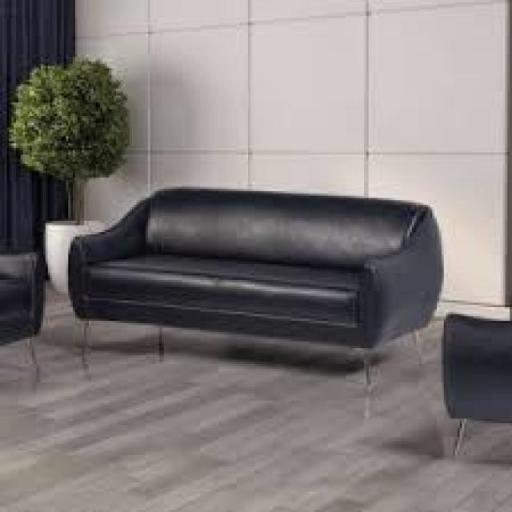sofa: (56, 176, 462, 390)
